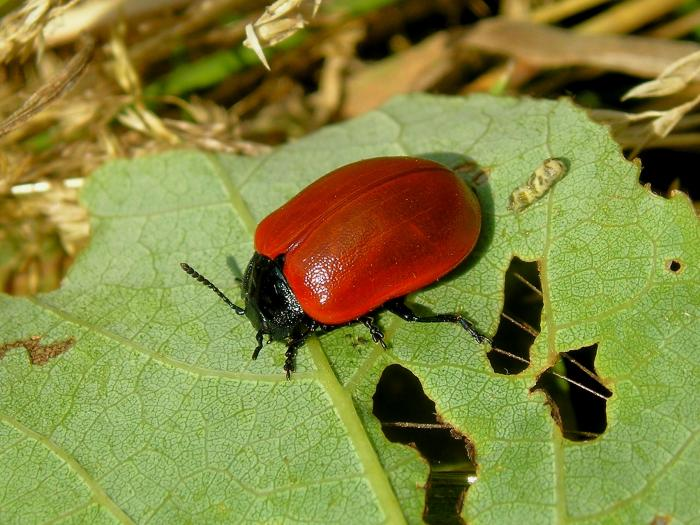Chrysomela_populi: (179, 148, 499, 385)
